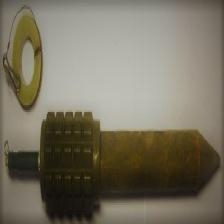POMZ2: (2, 103, 224, 224)
